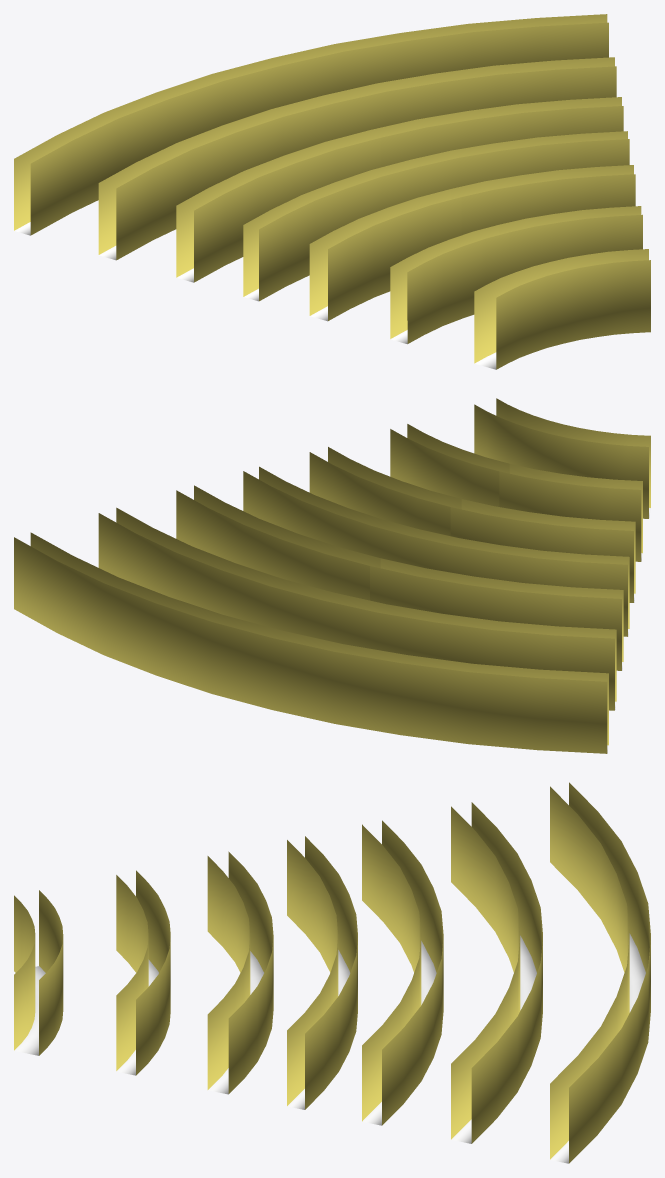
File: BandsOfLight.fbx
The picture shows the model from 3 angles, top to bottom: view 1: azimuth 30°, elevation 25°; view 2: azimuth 150°, elevation 25°; view 3: azimuth 270°, elevation 25°; orthographic projection. The views are drawn at different scales.
Parts seen in each view (by area): view 1: LightMapHelper.001, LightMapHelper.010, LightMapHelper.007, LightMapHelper.002, LightMapHelper.008, LightMapHelper.005, LightMapHelper.009, LightMapHelper.004, LightMapHelper.006, LightMapHelper.003; view 2: LightMapHelper.001, LightMapHelper.010, LightMapHelper.007, LightMapHelper.008, LightMapHelper.009, LightMapHelper.002, LightMapHelper.005, LightMapHelper.006, LightMapHelper.004, LightMapHelper.003; view 3: LightMapHelper.001, LightMapHelper.010, LightMapHelper.007, LightMapHelper.009, LightMapHelper.008, LightMapHelper.002, LightMapHelper.006, LightMapHelper.005, LightMapHelper.003, LightMapHelper.004.
Part boxes in pixels (x1,y1,x2,y2): LightMapHelper.001: (14, 14, 608, 235); LightMapHelper.010: (98, 57, 616, 260); LightMapHelper.007: (243, 131, 629, 301); LightMapHelper.002: (474, 249, 650, 369); LightMapHelper.008: (176, 130, 380, 282); LightMapHelper.005: (309, 189, 461, 321); LightMapHelper.009: (370, 97, 623, 167); LightMapHelper.004: (390, 225, 509, 344); LightMapHelper.006: (450, 165, 635, 235); LightMapHelper.003: (499, 206, 642, 274); LightMapHelper.001: (14, 532, 608, 753); LightMapHelper.010: (98, 507, 616, 710); LightMapHelper.007: (243, 466, 629, 636); LightMapHelper.008: (370, 558, 623, 670); LightMapHelper.009: (176, 485, 380, 600); LightMapHelper.002: (474, 398, 650, 518); LightMapHelper.005: (450, 499, 635, 602); LightMapHelper.006: (309, 447, 461, 535); LightMapHelper.004: (499, 464, 642, 561); LightMapHelper.003: (390, 424, 509, 506); LightMapHelper.001: (550, 782, 650, 1163); LightMapHelper.010: (451, 802, 542, 1143); LightMapHelper.007: (287, 836, 357, 1109); LightMapHelper.009: (362, 936, 443, 1125); LightMapHelper.008: (362, 820, 443, 1004); LightMapHelper.002: (14, 890, 63, 1055); LightMapHelper.006: (207, 935, 273, 1094); LightMapHelper.005: (207, 851, 273, 994); LightMapHelper.003: (116, 937, 170, 1075); LightMapHelper.004: (116, 870, 170, 986).
Bounding box in the file's own units: 4307 × 500 × 3794.
